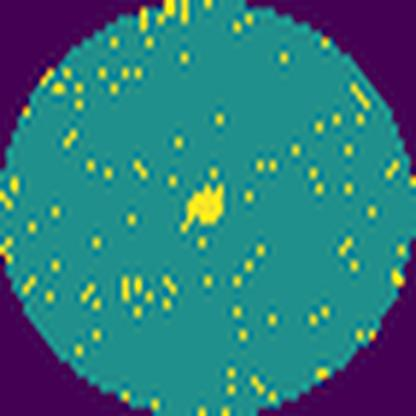Center: (182, 185, 227, 226)
